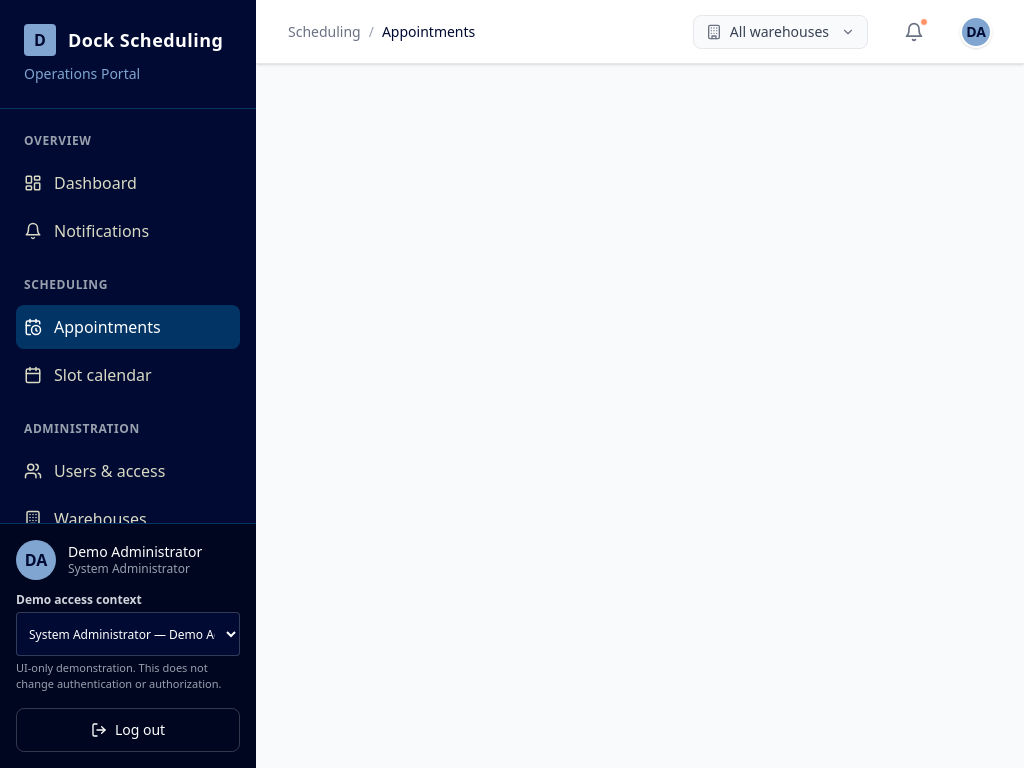
Scenario: AuthenticatedShell › 10. changes visible navigation to the selected role matrix
The image size is (1024, 768).
Select "Supplier User — Grace Vistula" in the dropdown labelled "Demo access context" at (128, 634), box [16,612,240,656]
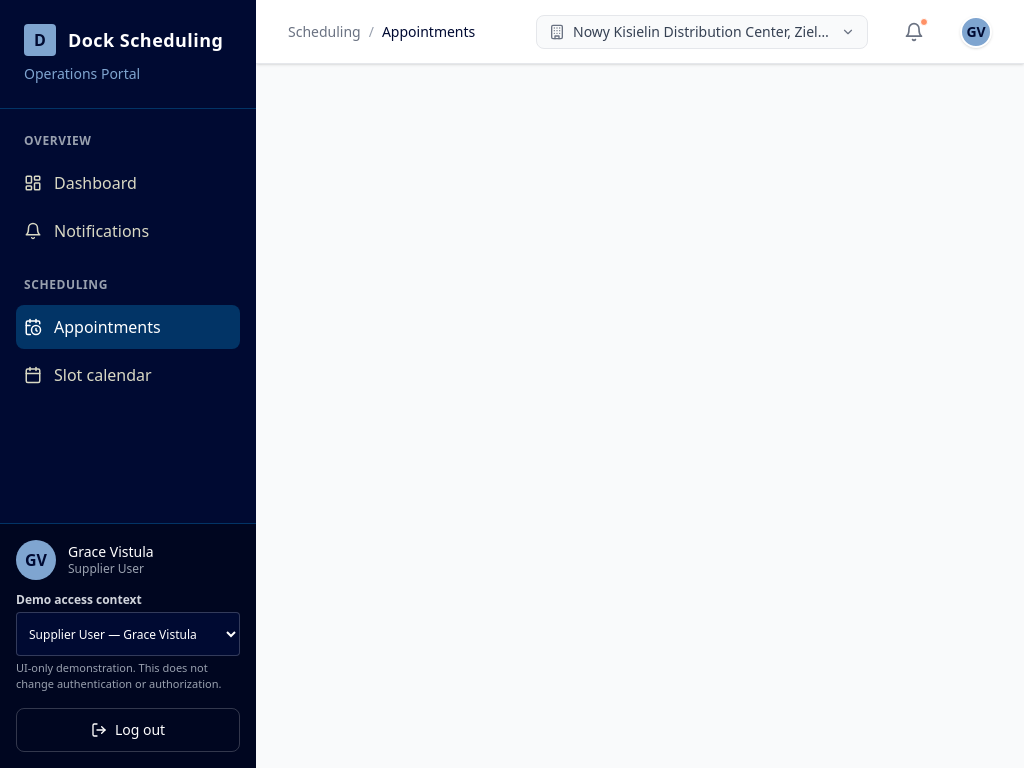
Now the heading "Administration" is gone
Now the link "Users & access" is gone
Now the link "Warehouses" is gone
